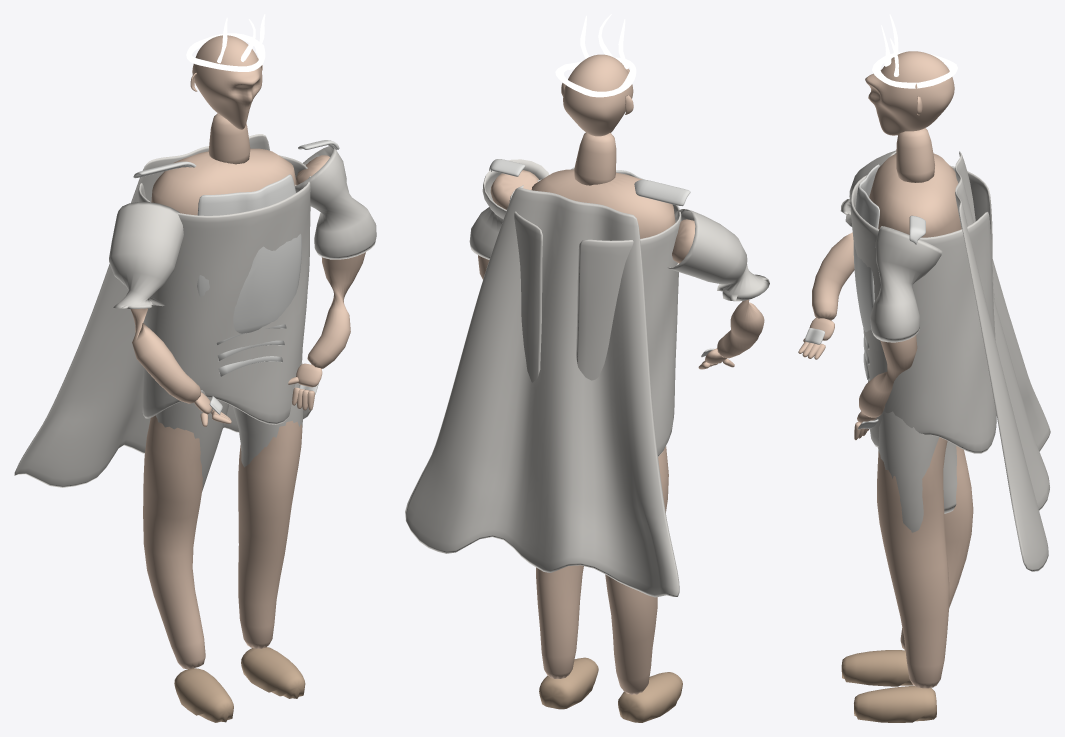
Rendered from basilica_soldier.glb.
3 views of the same model, side by side, from view 1: azimuth 30°, elevation 25°; view 2: azimuth 150°, elevation 25°; view 3: azimuth 270°, elevation 25° (orthographic).
Visible parts, largest first — view 1: Robe, Cape, LegR, LegL, Plate, SleeveR, Body, SleeveL, Head, ArmL, ArmR, BootL (+5 smaller); view 2: Cape, Robe, LegR, SleeveR, LegL, Head, Body, ArmR, BootR, SleeveL, BootL, Neck (+3 smaller); view 3: Robe, Cape, LegL, SleeveL, Body, Head, BreechL, BootL, LegR, ArmR, BootR, ArmL (+5 smaller).
Part boxes in pixels (bbox=[...]): Robe: bbox=[138, 155, 310, 424]; Cape: bbox=[14, 134, 311, 487]; LegR: bbox=[143, 415, 205, 668]; LegL: bbox=[238, 420, 302, 648]; Plate: bbox=[197, 174, 301, 333]; SleeveR: bbox=[109, 202, 183, 308]; Body: bbox=[151, 148, 296, 215]; SleeveL: bbox=[295, 146, 376, 259]; Head: bbox=[192, 35, 262, 129]; ArmL: bbox=[295, 155, 365, 368]; ArmR: bbox=[130, 308, 200, 403]; BootL: bbox=[241, 647, 305, 698]; Cape: bbox=[405, 187, 679, 597]; Robe: bbox=[509, 179, 681, 456]; LegR: bbox=[605, 446, 668, 694]; SleeveR: bbox=[668, 209, 769, 301]; LegL: bbox=[536, 565, 583, 678]; Head: bbox=[563, 54, 633, 136]; Body: bbox=[531, 169, 675, 238]; ArmR: bbox=[672, 219, 764, 358]; BootR: bbox=[618, 672, 682, 722]; SleeveL: bbox=[469, 159, 549, 259]; BootL: bbox=[539, 657, 598, 709]; Neck: bbox=[574, 132, 616, 185]; Robe: bbox=[850, 165, 996, 453]; Cape: bbox=[955, 151, 1050, 571]; LegL: bbox=[877, 437, 949, 688]; SleeveL: bbox=[870, 226, 942, 342]; Body: bbox=[869, 153, 961, 237]; Head: bbox=[865, 51, 954, 135]; BreechL: bbox=[878, 411, 939, 532]; BootL: bbox=[854, 686, 936, 722]; LegR: bbox=[900, 446, 973, 650]; ArmR: bbox=[812, 232, 854, 320]; BootR: bbox=[841, 650, 913, 686]; ArmL: bbox=[859, 335, 917, 417].
Bounding box in the file's own units: 0.8269 × 1.89 × 0.6376.
